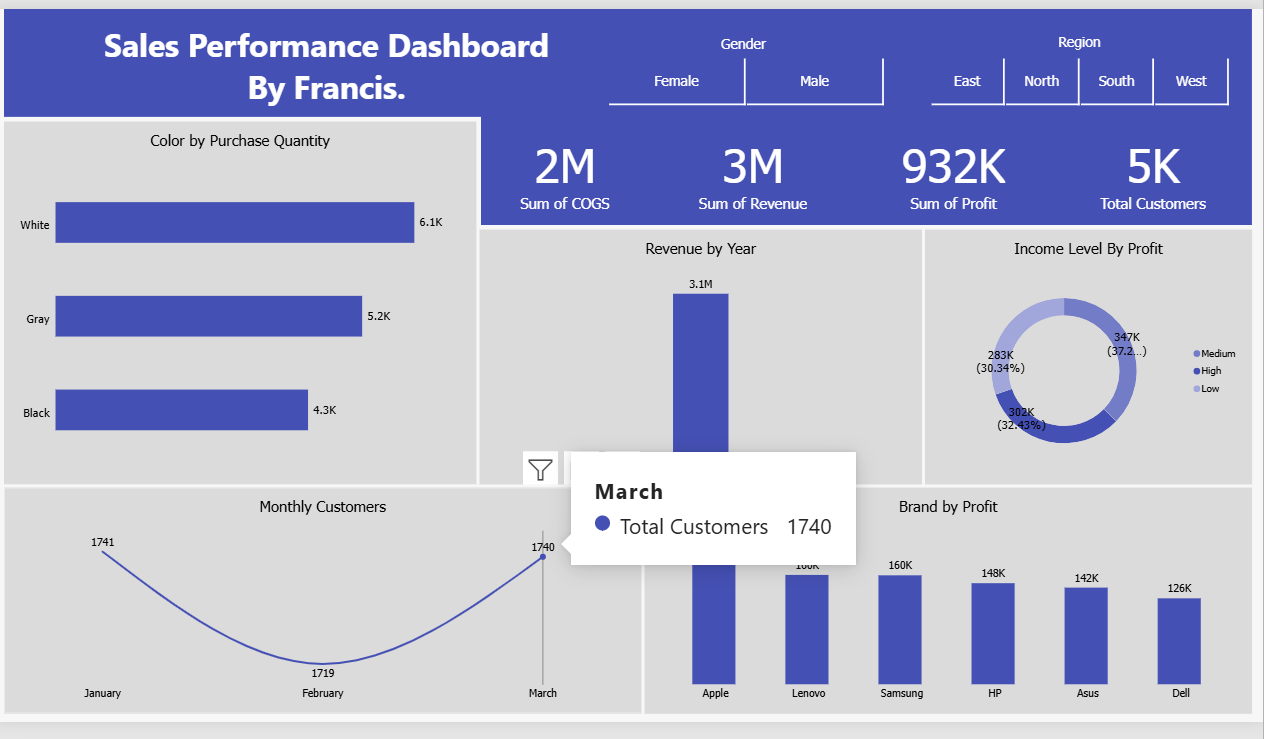

The page's visual inventory and layout, read from the dashboard file:
{"tool":"powerbi","page":{"name":"Page 1","canvas":[1920,1080],"ordinal":0},"visuals":[{"type":"barChart","title":"Color by Purchase Quantity","fields":{"Category":["Products.Color"],"Y":["Sum(Sales.Quantity)"]},"box":[13.6,170.3,715.5,549.7],"z":0},{"type":"columnChart","title":" Revenue by Year","fields":{"Category":["Sales.SaleDate.Variation.Date Hierarchy.Year"],"Y":["Sum(Sales.Revenue)"]},"box":[733.6,333.9,670,386.1],"z":1000},{"type":"columnChart","title":"Brand by Profit","fields":{"Category":["Products.Brand"],"Y":["Sum(Sales.Profit)"]},"box":[983.5,724.5,919.9,343],"z":2000},{"type":"lineChart","title":"Monthly Customers","fields":{"Category":["Sales.SaleDate.Variation.Date Hierarchy.Month"],"Y":["Customers.Total Customers"]},"box":[13.6,724.5,965.3,343],"z":3000},{"type":"shape","box":[735.9,177.2,1167.5,149.9],"z":4000},{"type":"donutChart","title":"Income Level By Profit","fields":{"Category":["Customers.IncomeLevel"],"Y":["Sum(Sales.Profit)"]},"box":[1408.2,333.9,495.1,386.1],"z":5000},{"type":"cardVisual","fields":{"Data":["Sum(Sales.Revenue)"]},"box":[1001.6,177.2,293,149.9],"z":6000},{"type":"cardVisual","fields":{"Data":["Sum(Sales.COGS)"]},"box":[735.9,177.2,254.4,149.9],"z":7000},{"type":"cardVisual","fields":{"Data":["Sum(Sales.Profit)"]},"box":[1310,177.5,282.5,150],"z":8000},{"type":"shape","box":[735.9,0,1167.5,177.2],"z":9000},{"type":"cardVisual","fields":{"Data":["Customers.Total Customers"]},"box":[1602.5,177.5,300,150],"z":10000},{"type":"slicer","fields":{"Values":["Customers.Region"]},"box":[1381,59.1,522.4,104.5],"z":11000},{"type":"shape","box":[13.6,0,751.8,163.5],"z":12000},{"type":"slicer","fields":{"Values":["Customers.Gender"]},"box":[892.6,59.1,488.3,104.5],"z":13000},{"type":"textbox","box":[13.6,6.8,976.7,170.3],"z":14000},{"type":"textbox","box":[983.5,38.6,299.8,43.2],"z":15000},{"type":"textbox","box":[1492.2,36.3,299.8,43.2],"z":16000}]}

Visuals, with their boxes on the page's 1920x1080 design canvas (x1, y1, x2, y2). These are canvas units, not pixel positions in the 1273x739 screenshot, which may show the page scaled, cropped or inside an application window:
"Color by Purchase Quantity" barChart: detection(14, 170, 729, 720)
" Revenue by Year" columnChart: detection(734, 334, 1404, 720)
"Brand by Profit" columnChart: detection(984, 724, 1903, 1068)
"Monthly Customers" lineChart: detection(14, 724, 979, 1068)
shape: detection(736, 177, 1903, 327)
"Income Level By Profit" donutChart: detection(1408, 334, 1903, 720)
cardVisual - Sum(Sales.Revenue): detection(1002, 177, 1295, 327)
cardVisual - Sum(Sales.COGS): detection(736, 177, 990, 327)
cardVisual - Sum(Sales.Profit): detection(1310, 178, 1592, 328)
shape: detection(736, 0, 1903, 177)
cardVisual - Customers.Total Customers: detection(1602, 178, 1902, 328)
slicer - Customers.Region: detection(1381, 59, 1903, 164)
shape: detection(14, 0, 765, 164)
slicer - Customers.Gender: detection(893, 59, 1381, 164)
textbox: detection(14, 7, 990, 177)
textbox: detection(984, 39, 1283, 82)
textbox: detection(1492, 36, 1792, 80)
